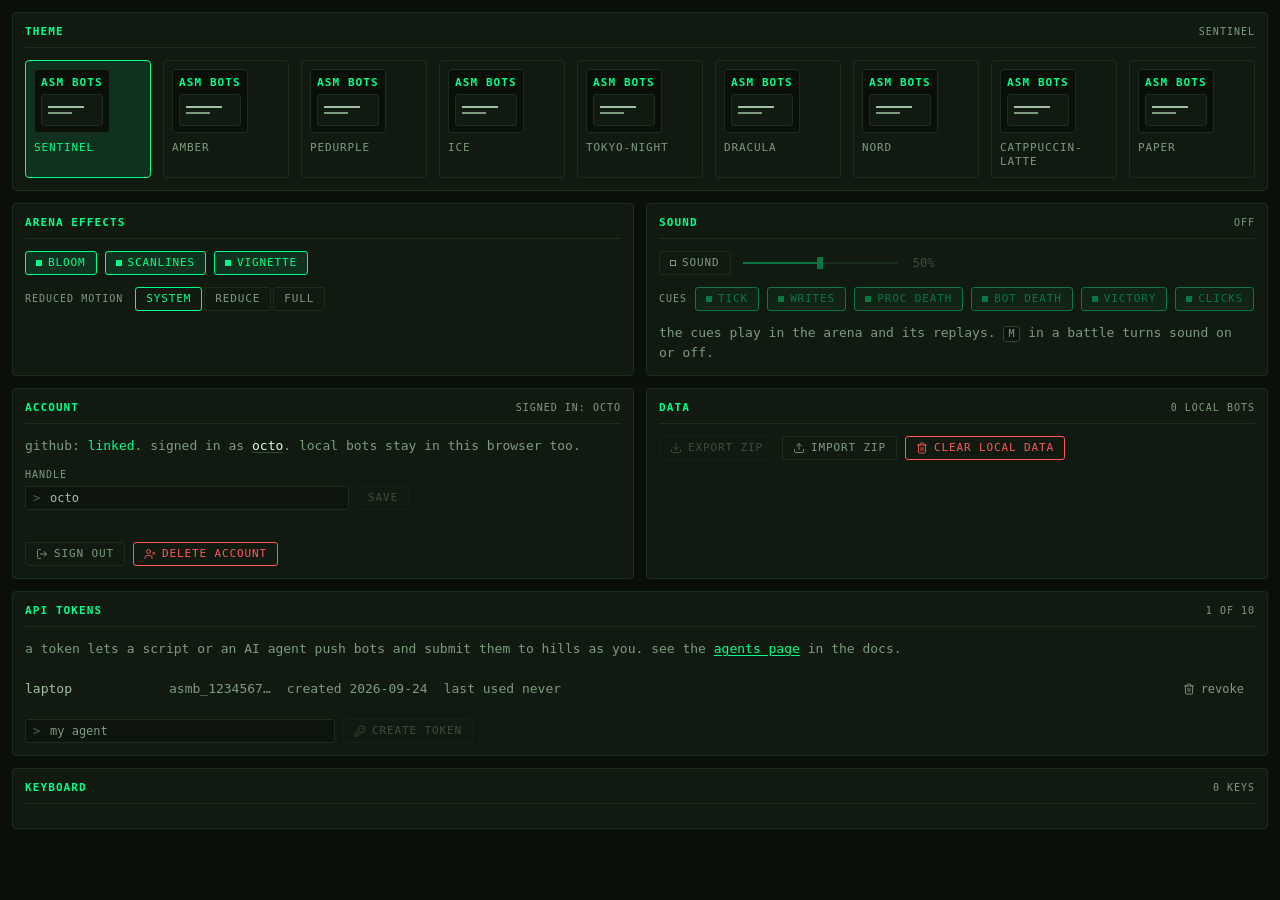
Scenario: the api tokens panel › revokes a token after a confirm
What coordinates should you click on to do the following:
click the button with aria-label "revoke laptop"
I would click on:
 (1213, 689)
Its box is x1=1172 y1=677 x2=1255 y2=701.
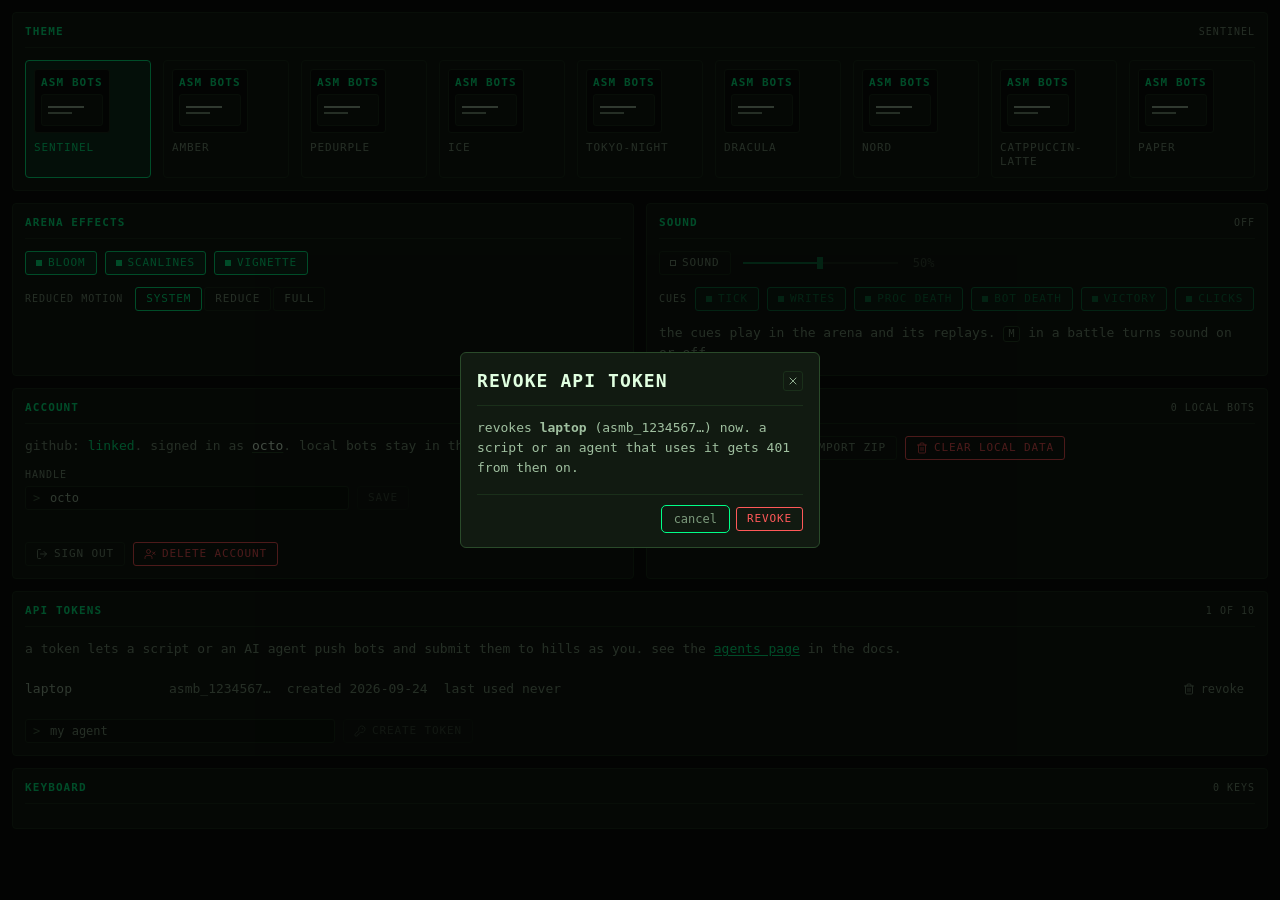
What coordinates should you click on to do the following:
click the button "revoke"
I would click on:
 (770, 519)
Its box is x1=736 y1=507 x2=803 y2=531.
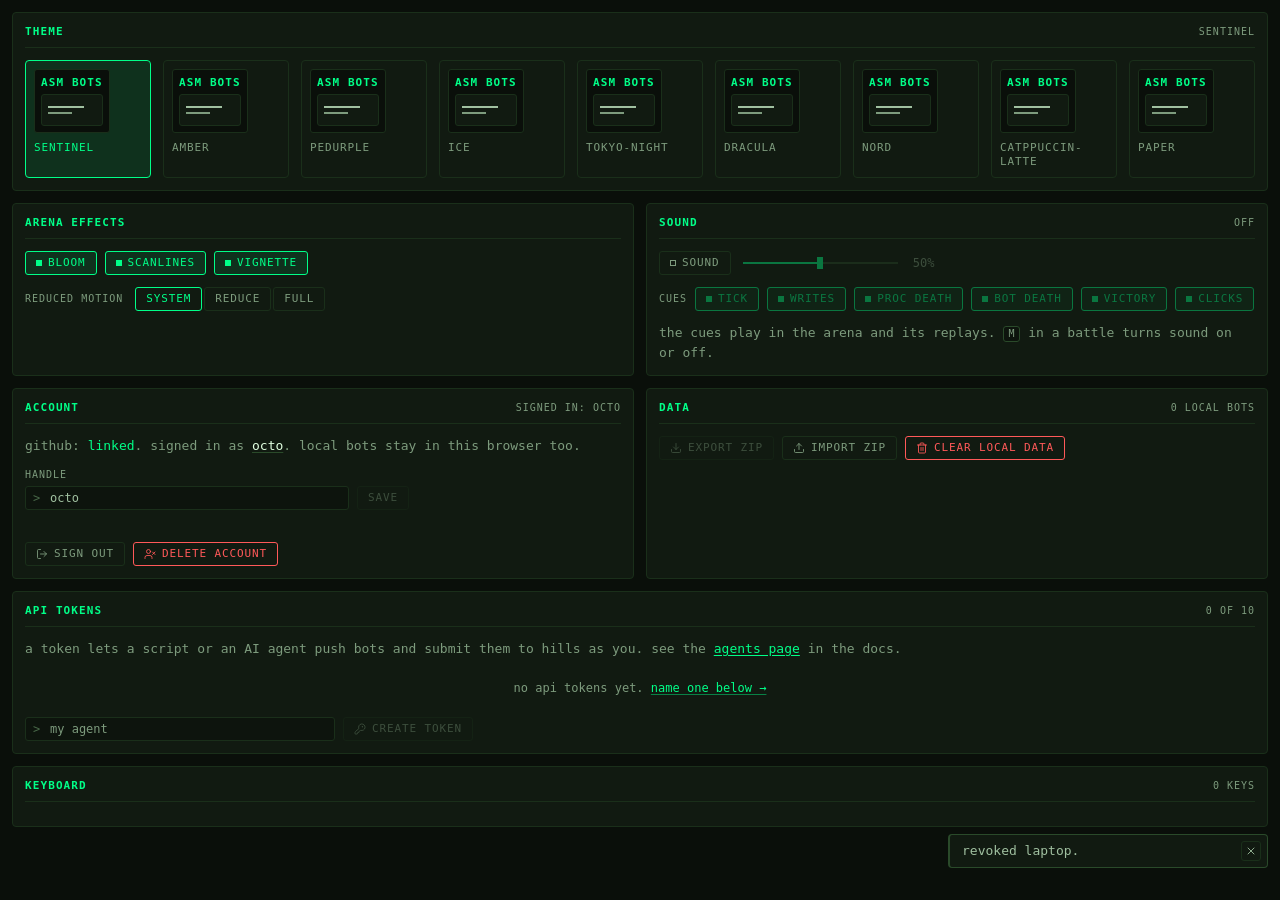
Now the text "revoked laptop." is shown, box x1=962 y1=843 x2=1079 y2=858
Now the text "no api tokens yet. name one below →" is shown, box x1=514 y1=679 x2=766 y2=697
